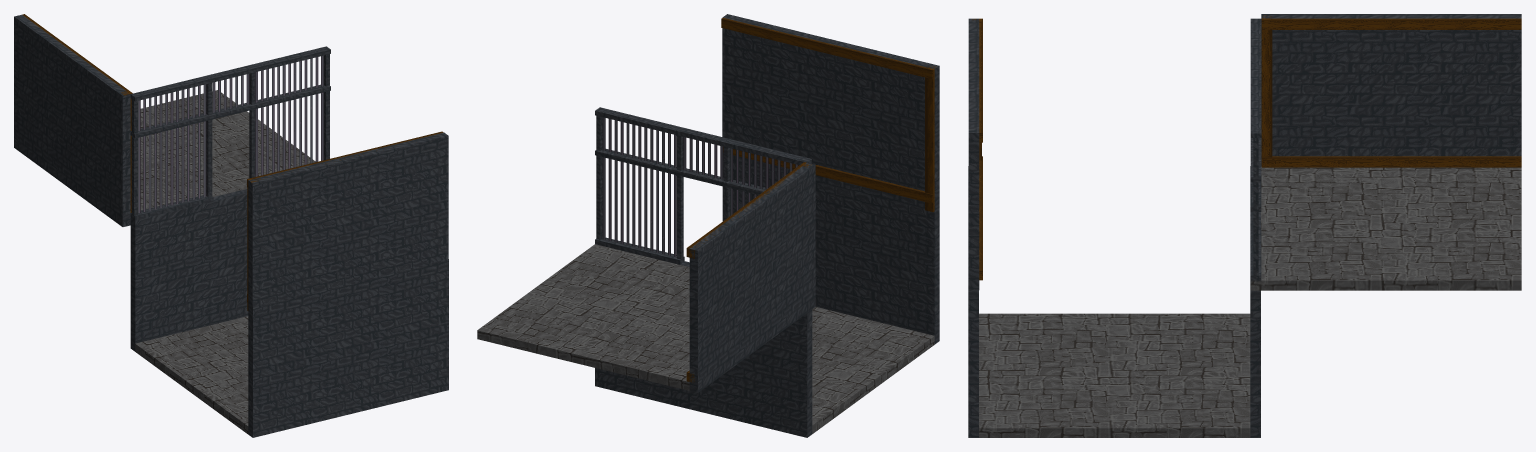
File: Flur Gefaengnis Schlucht V1.fbx
3 renders of one model, left to right at view 1: azimuth 30°, elevation 25°; view 2: azimuth 150°, elevation 25°; view 3: azimuth 270°, elevation 25°, orthographic. The views are drawn at different scales.
Parts seen in each view (by area): view 1: Flur Gefängnis Schlucht V1.004, Flur Gefängnis Schlucht V1.006, Flur Gefängnis Schlucht V1.001, Flur Gefängnis Schlucht V1.007, Flur Gefängnis Schlucht V1.005, Flur Gefängnis Schlucht V1.002, Flur Gefängnis Schlucht V1; view 2: Flur Gefängnis Schlucht V1.006, Flur Gefängnis Schlucht V1.002, Flur Gefängnis Schlucht V1.001, Flur Gefängnis Schlucht V1.004, Flur Gefängnis Schlucht V1.007, Flur Gefängnis Schlucht V1.005, Flur Gefängnis Schlucht V1; view 3: Flur Gefängnis Schlucht V1.001, Flur Gefängnis Schlucht V1, Flur Gefängnis Schlucht V1.002, Flur Gefängnis Schlucht V1.006, Flur Gefängnis Schlucht V1.007, Flur Gefängnis Schlucht V1.005, Flur Gefängnis Schlucht V1.004.
Part boxes in pixels (x1=…): Flur Gefängnis Schlucht V1.004: x1=248, y1=259, x2=448, y2=437; Flur Gefängnis Schlucht V1.006: x1=247, y1=131, x2=448, y2=314; Flur Gefängnis Schlucht V1.001: x1=14, y1=14, x2=132, y2=226; Flur Gefängnis Schlucht V1.007: x1=130, y1=46, x2=330, y2=220; Flur Gefängnis Schlucht V1.005: x1=130, y1=189, x2=248, y2=351; Flur Gefängnis Schlucht V1.002: x1=140, y1=90, x2=315, y2=210; Flur Gefängnis Schlucht V1: x1=135, y1=316, x2=248, y2=434; Flur Gefängnis Schlucht V1.006: x1=721, y1=14, x2=939, y2=212; Flur Gefängnis Schlucht V1.002: x1=477, y1=244, x2=689, y2=390; Flur Gefängnis Schlucht V1.001: x1=686, y1=162, x2=815, y2=392; Flur Gefängnis Schlucht V1.004: x1=722, y1=160, x2=939, y2=344; Flur Gefängnis Schlucht V1.007: x1=595, y1=107, x2=811, y2=264; Flur Gefängnis Schlucht V1.005: x1=595, y1=261, x2=812, y2=437; Flur Gefängnis Schlucht V1: x1=812, y1=307, x2=934, y2=433; Flur Gefängnis Schlucht V1.001: x1=1261, y1=14, x2=1521, y2=167; Flur Gefängnis Schlucht V1: x1=979, y1=313, x2=1250, y2=437; Flur Gefängnis Schlucht V1.002: x1=1250, y1=166, x2=1521, y2=290; Flur Gefängnis Schlucht V1.006: x1=968, y1=18, x2=982, y2=289; Flur Gefängnis Schlucht V1.007: x1=1250, y1=18, x2=1261, y2=286; Flur Gefängnis Schlucht V1.005: x1=1250, y1=166, x2=1260, y2=437; Flur Gefängnis Schlucht V1.004: x1=968, y1=166, x2=978, y2=437.
Bounding box in the file's own units: 520 × 1020 × 620.
Materials: 2 (2 with a texture image).
